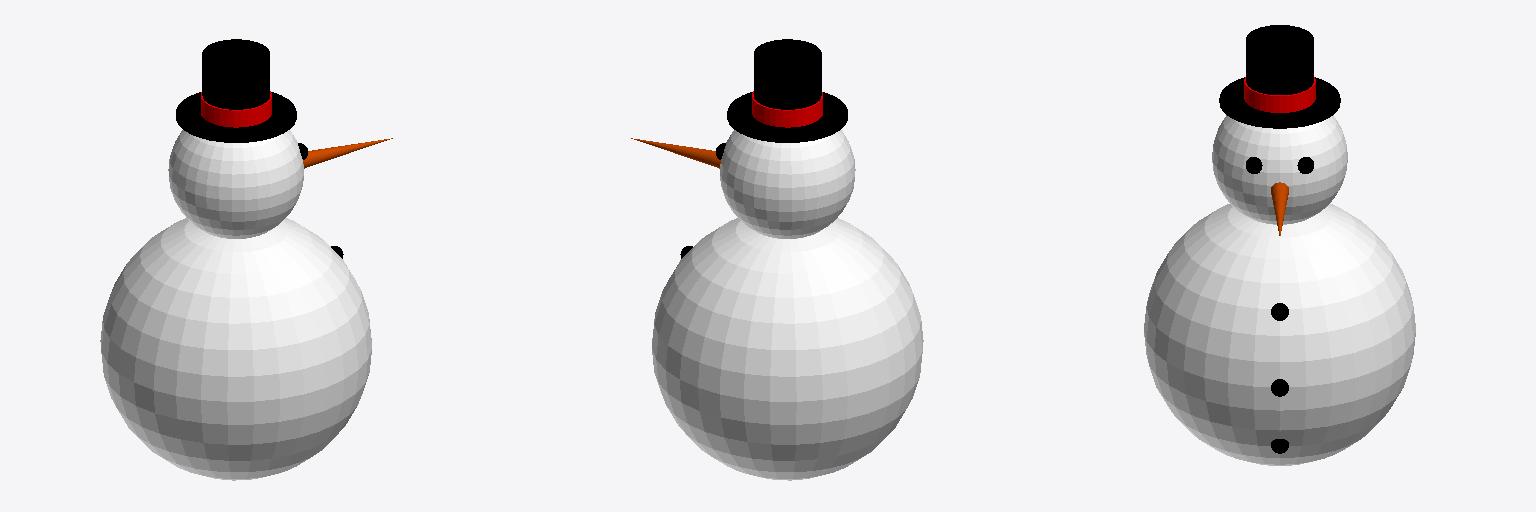
The model's file is snowman.obj.
3 views of the same model, side by side, from view 1: azimuth 30°, elevation 25°; view 2: azimuth 150°, elevation 25°; view 3: azimuth 270°, elevation 25° (orthographic).
Visible parts, largest first — view 1: Sphere, Sphere.001, Cylinder, Cylinder.001, Cylinder.002, Cone; view 2: Sphere, Sphere.001, Cylinder, Cylinder.001, Cylinder.002, Cone; view 3: Sphere, Sphere.001, Cylinder, Cylinder.001, Cylinder.002, Cone.
Boxes of the visible parts, <box> form: Sphere: <box>100,218,371,480</box>; Sphere.001: <box>168,130,303,238</box>; Cylinder: <box>202,39,269,109</box>; Cylinder.001: <box>176,92,296,142</box>; Cylinder.002: <box>201,91,271,127</box>; Cone: <box>303,138,392,168</box>; Sphere: <box>652,218,923,480</box>; Sphere.001: <box>720,130,855,238</box>; Cylinder: <box>754,39,821,109</box>; Cylinder.001: <box>727,92,847,142</box>; Cylinder.002: <box>752,91,822,127</box>; Cone: <box>631,138,720,168</box>; Sphere: <box>1144,204,1415,465</box>; Sphere.001: <box>1212,115,1347,224</box>; Cylinder: <box>1246,25,1313,94</box>; Cylinder.001: <box>1219,77,1340,128</box>; Cylinder.002: <box>1244,77,1315,112</box>; Cone: <box>1271,182,1288,235</box>.
Bounding box in the file's own units: 0.875 × 1.26 × 0.75.